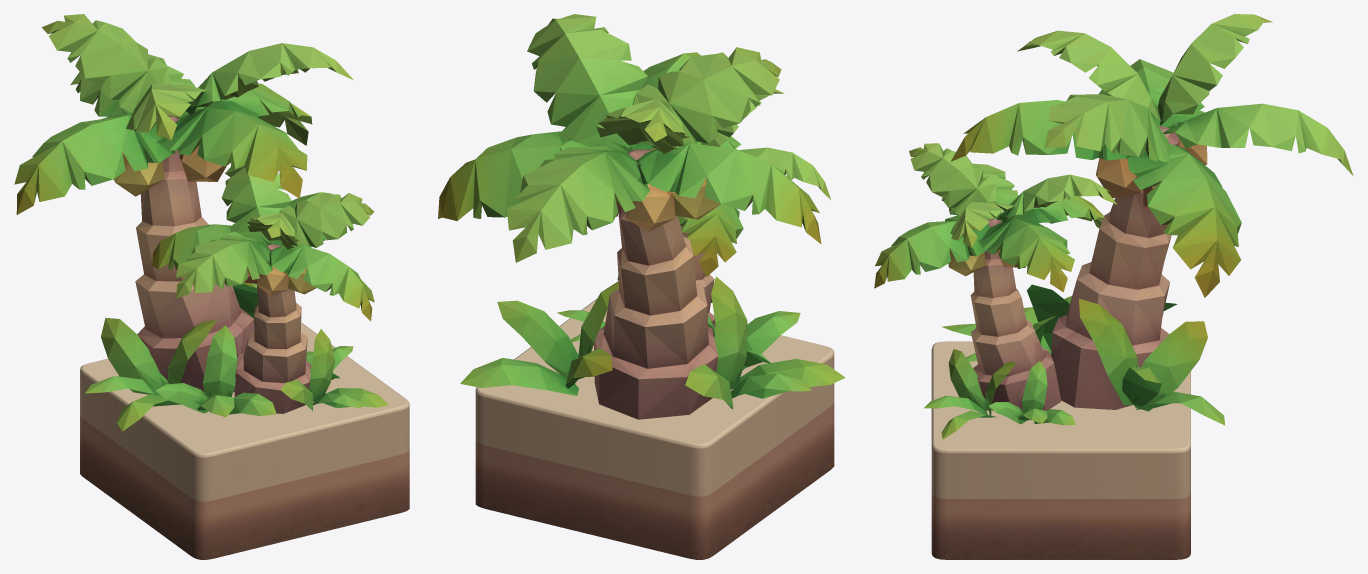
Rendered from Props.fbx.
3 views of the same model, side by side, from view 1: azimuth 30°, elevation 25°; view 2: azimuth 150°, elevation 25°; view 3: azimuth 270°, elevation 25° (orthographic). The views are drawn at different scales.
Visible parts, largest first — view 1: yezishu01, Box02; view 2: yezishu01, Box02; view 3: yezishu01, Box02.
Boxes of the visible parts, box(x1,y1,x2,y2) form: yezishu01: box(14, 14, 388, 431); Box02: box(80, 322, 409, 559); yezishu01: box(438, 14, 845, 419); Box02: box(475, 299, 834, 559); yezishu01: box(874, 14, 1353, 439); Box02: box(931, 341, 1190, 559).
Size of the model in its own units: 8.34 by 10.64 by 10.35.
